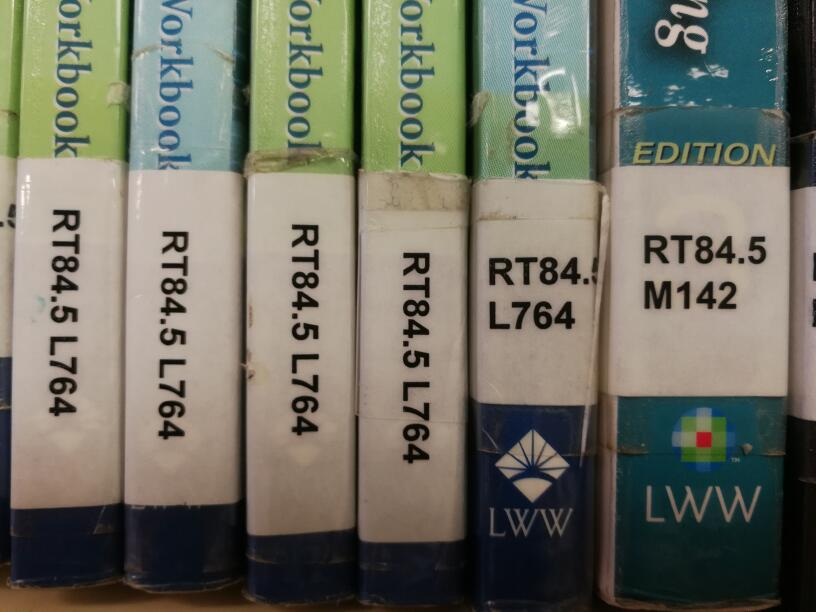booklabel: (642, 232, 767, 311), (485, 252, 598, 331), (285, 220, 322, 438), (45, 205, 81, 420), (153, 226, 189, 441), (397, 249, 433, 464)
